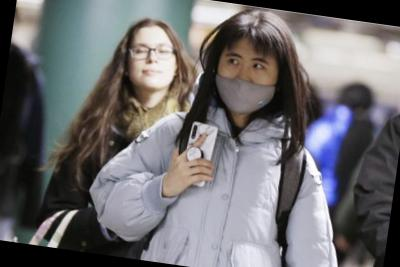with_mask: (209, 51, 282, 119)
without_mask: (123, 37, 179, 94)
